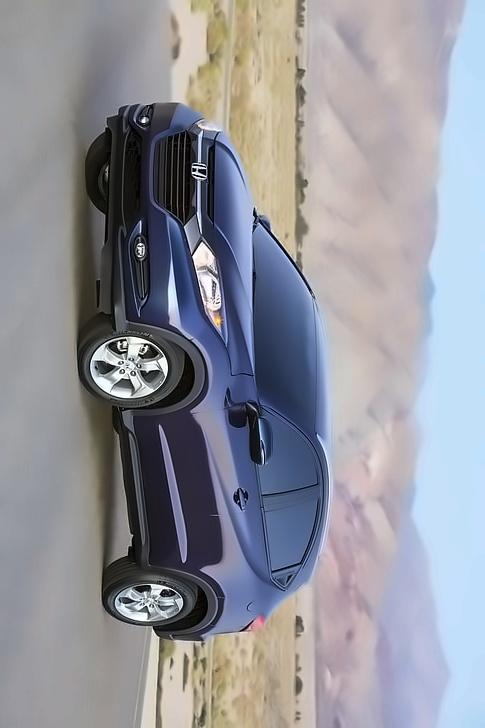Car hood: (208, 125, 259, 375)
Fender - -F-L-: (110, 325, 261, 433)
Fender - -R-L-: (124, 550, 302, 629)
Front bumper: (98, 99, 192, 350)
Headlight - -L-: (185, 229, 236, 349)
Headlight - -R-: (185, 115, 225, 141)
Passenger-s door - -F-L-: (127, 406, 330, 518)
Passenger-s door - -R-L-: (147, 500, 329, 576)
Rear bumper: (153, 614, 224, 651)
Rear light - -L-: (246, 602, 270, 639)
Side bumper - -L-: (107, 405, 152, 574)
Side mirror - -L-: (232, 392, 280, 469)
Side mirror - -R-: (246, 200, 278, 238)
